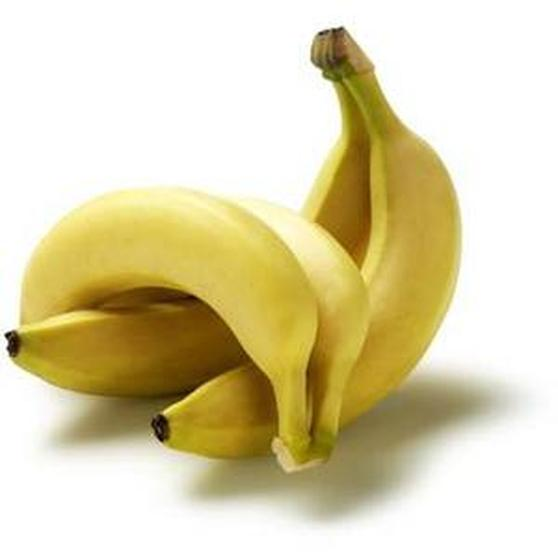banana: (23, 182, 323, 451)
